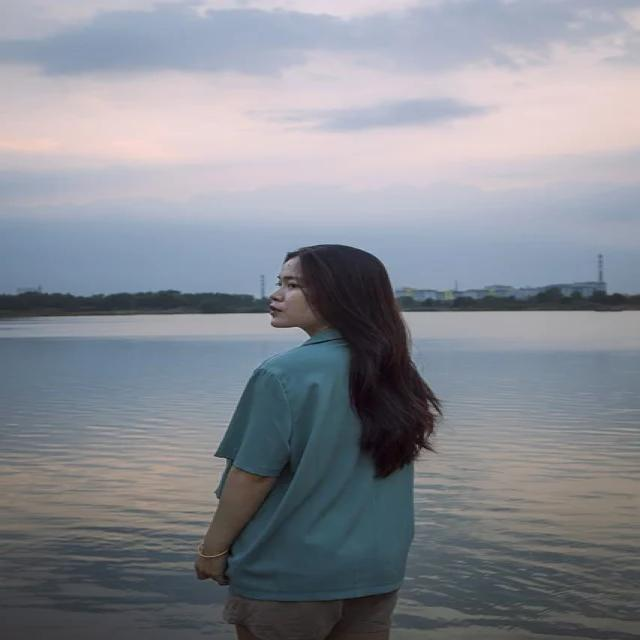Real human 2: (176, 231, 507, 640)
